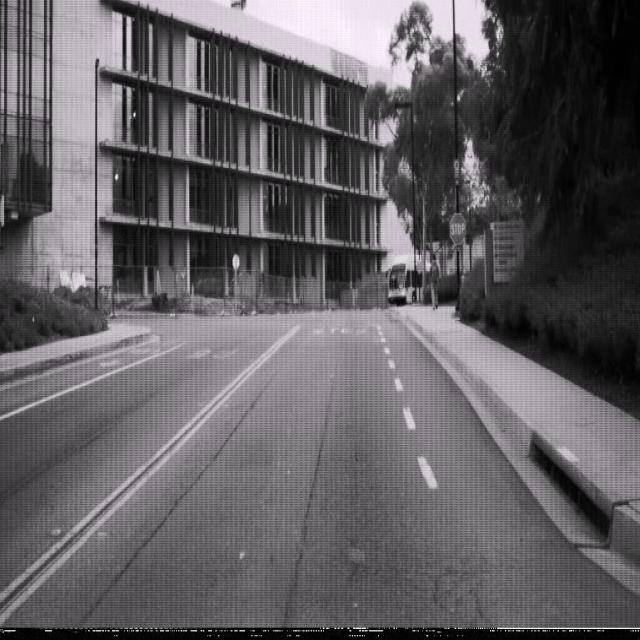stop_sign: (449, 211, 466, 246)
